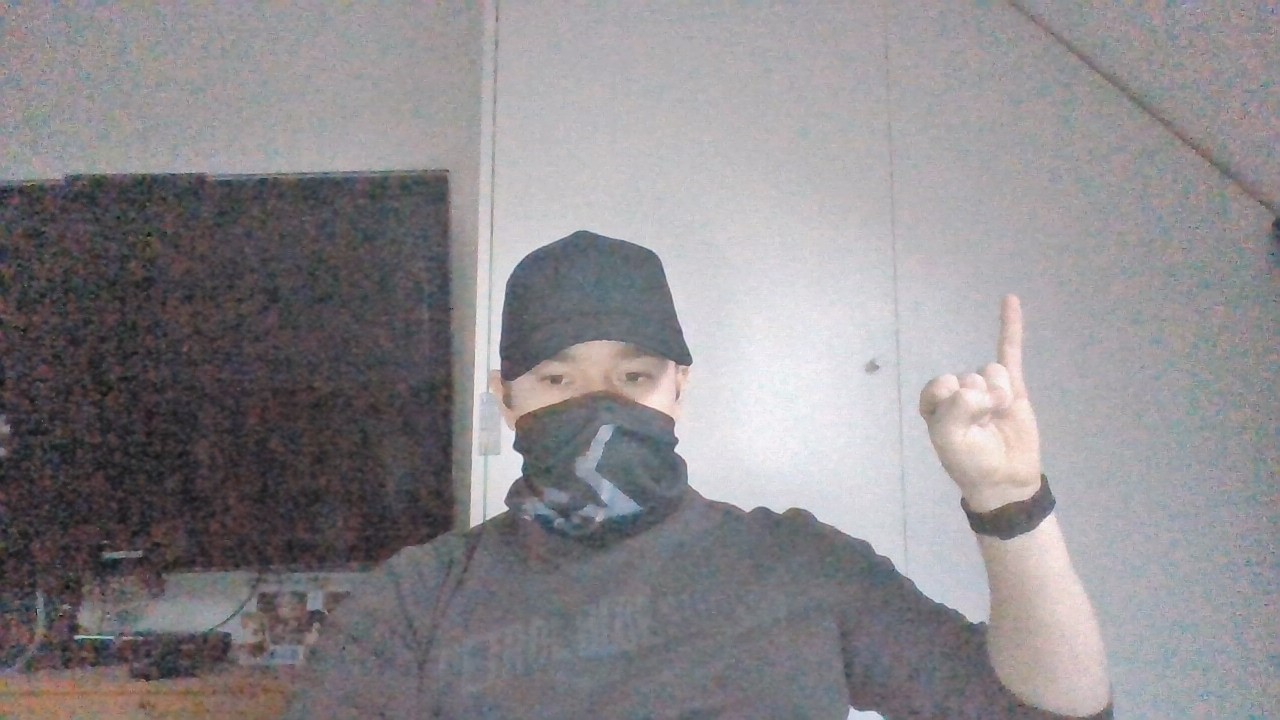I" Sign language: (887, 289, 1096, 535)
